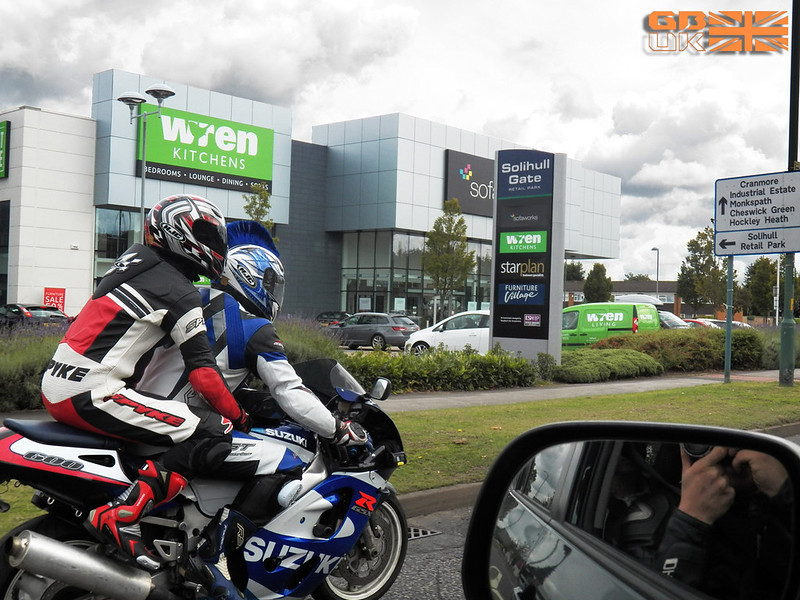helmet: (148, 193, 233, 280), (217, 230, 289, 310)
